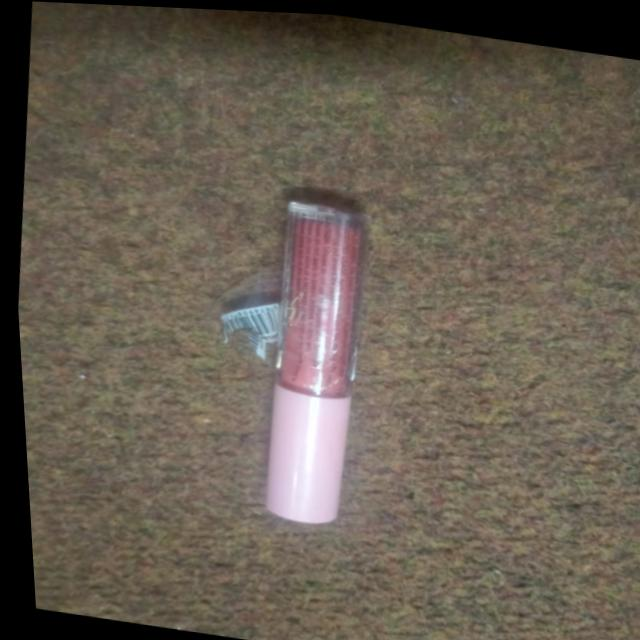lip gloss: (199, 149, 414, 549)
